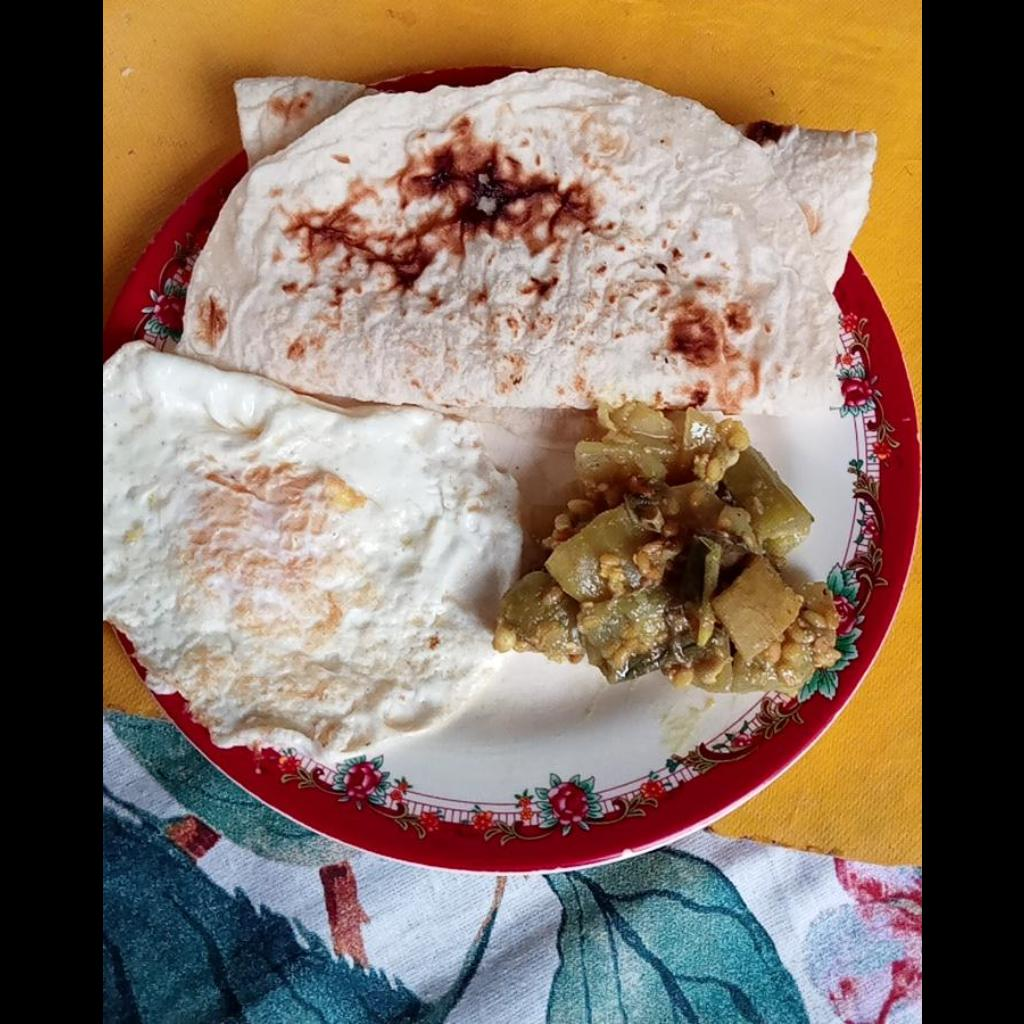egg-poached: (102, 343, 519, 760)
ruti: (178, 71, 868, 411)
vegetable: (494, 409, 841, 695)
